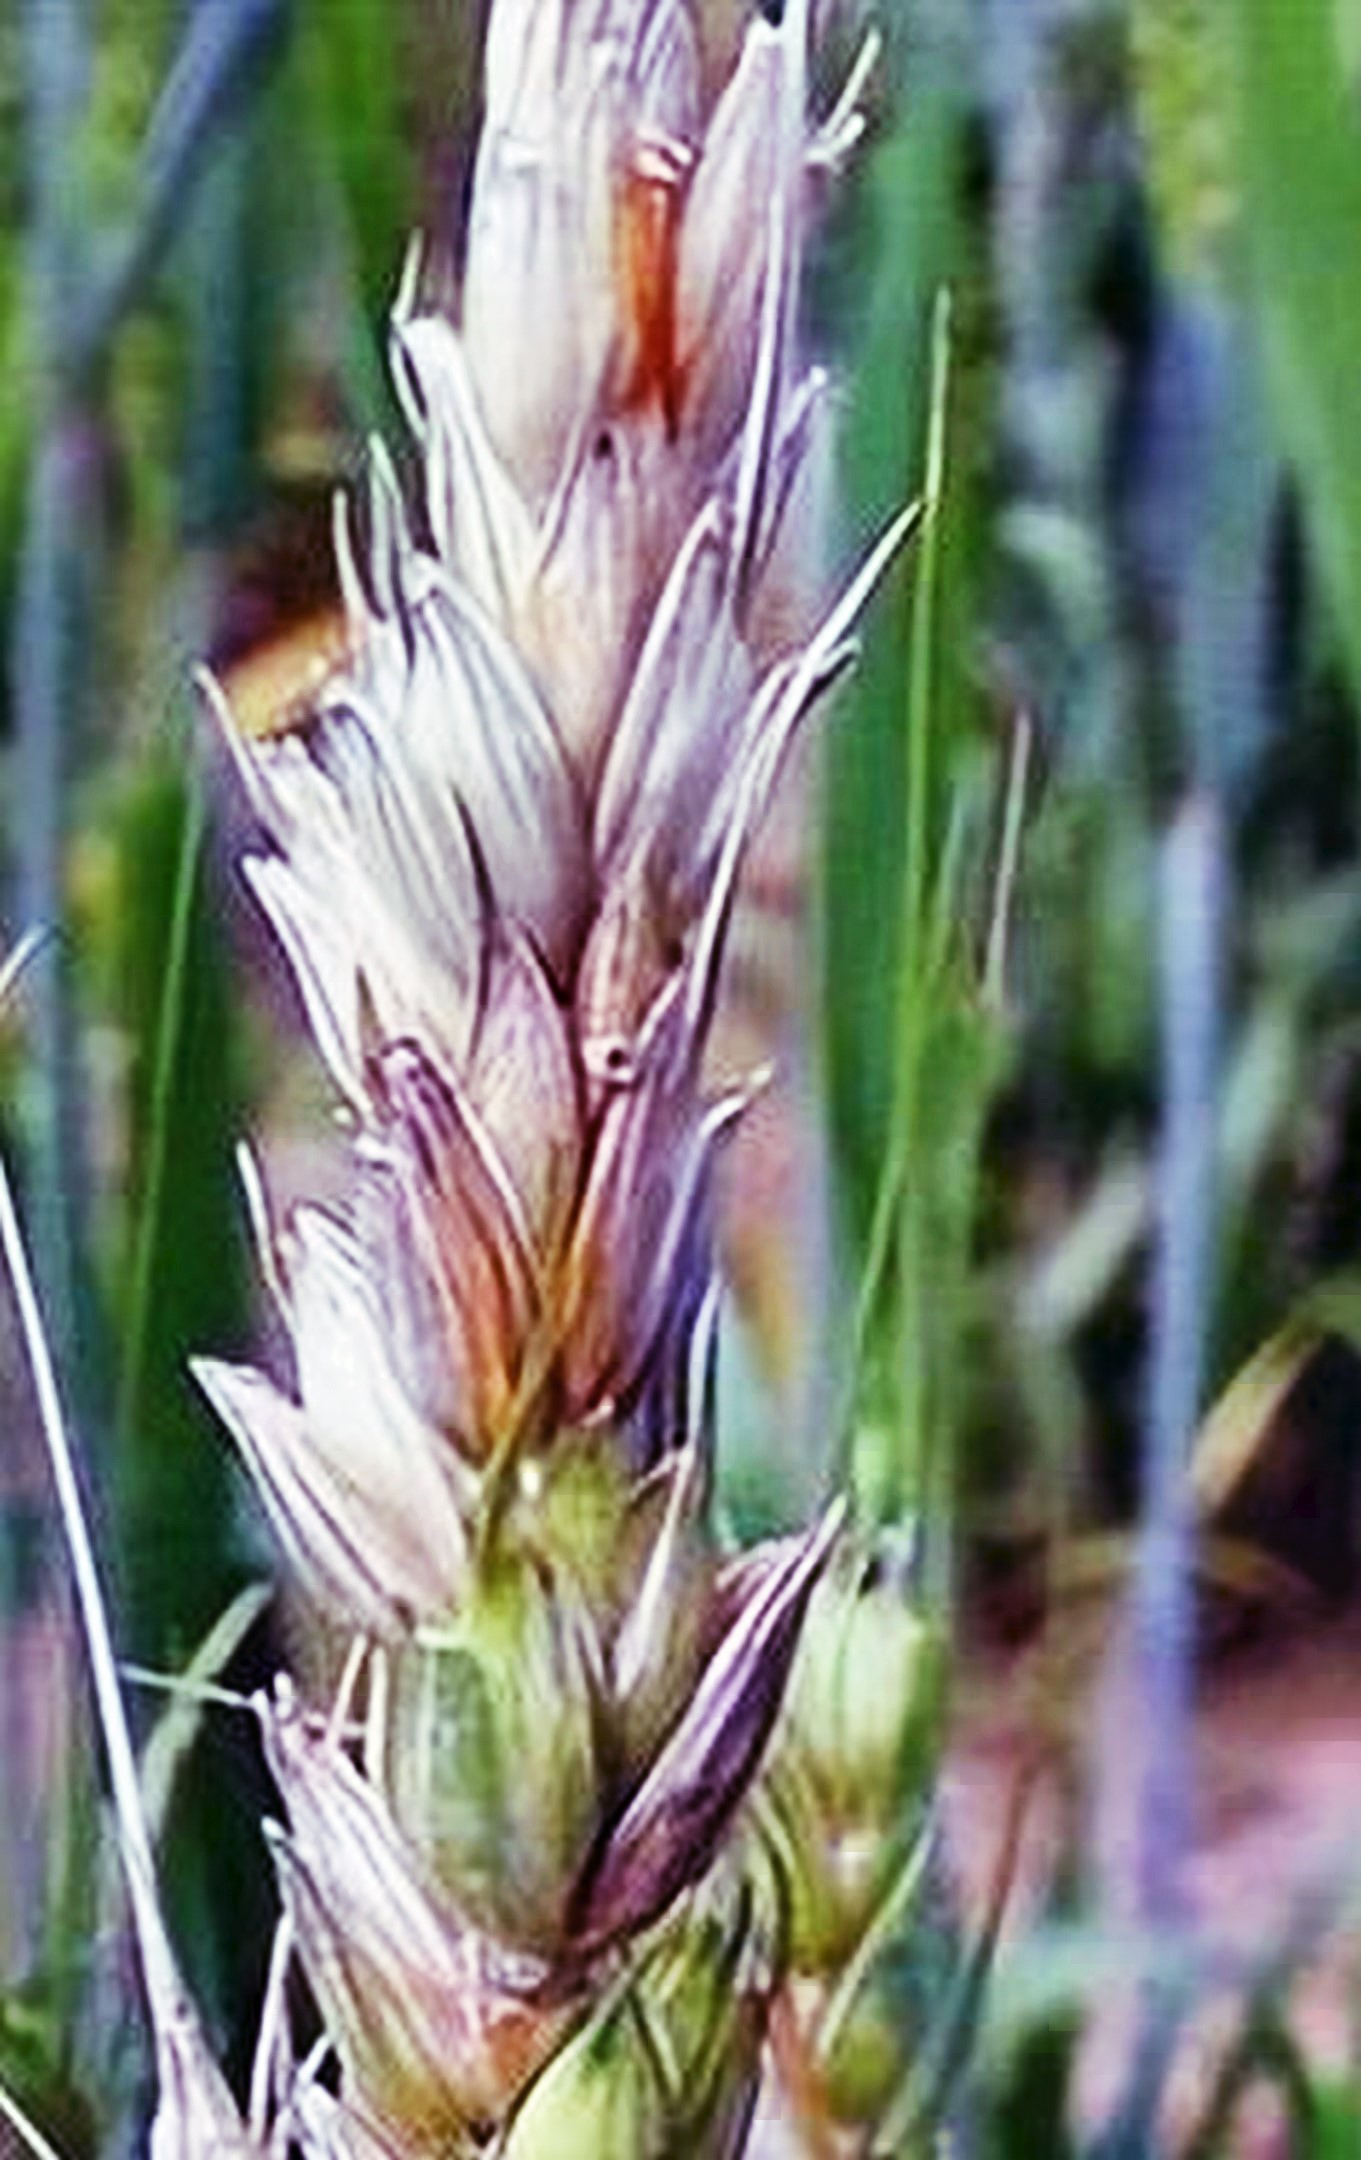Wheat scab: (163, 71, 829, 2140)
